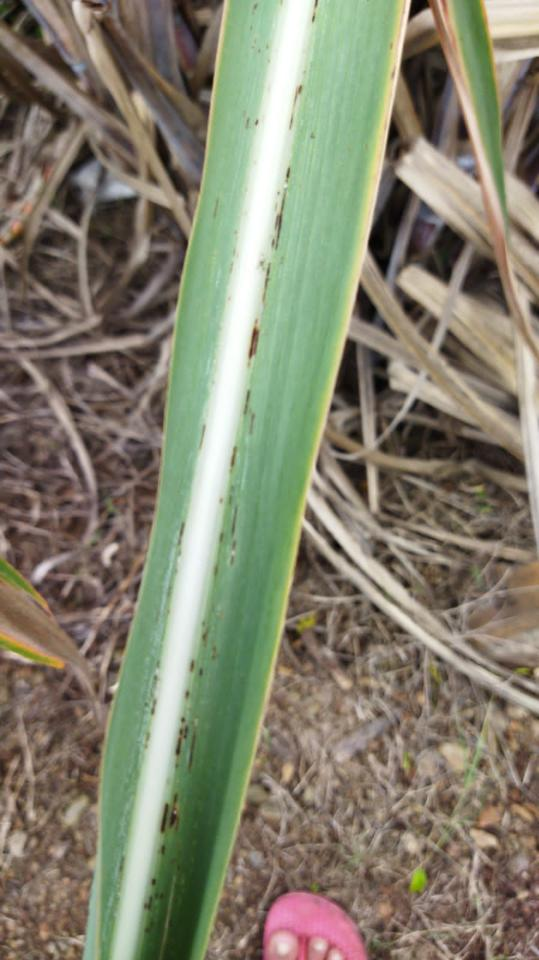Rust: (168, 655, 208, 777), (140, 655, 164, 753), (266, 166, 293, 251), (216, 482, 242, 567), (158, 789, 187, 858), (168, 520, 189, 579), (243, 318, 266, 371), (257, 258, 278, 307), (139, 876, 166, 913), (241, 388, 259, 439), (200, 616, 219, 662), (285, 83, 303, 130), (250, 35, 273, 66), (226, 445, 240, 476), (242, 113, 262, 131), (196, 423, 208, 452), (210, 195, 222, 222), (114, 855, 129, 876), (309, 0, 321, 24), (212, 563, 220, 579)
